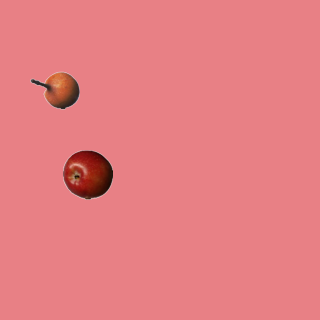Apple Braeburn: (62, 149, 112, 199)
Granadilla: (29, 65, 79, 115)
